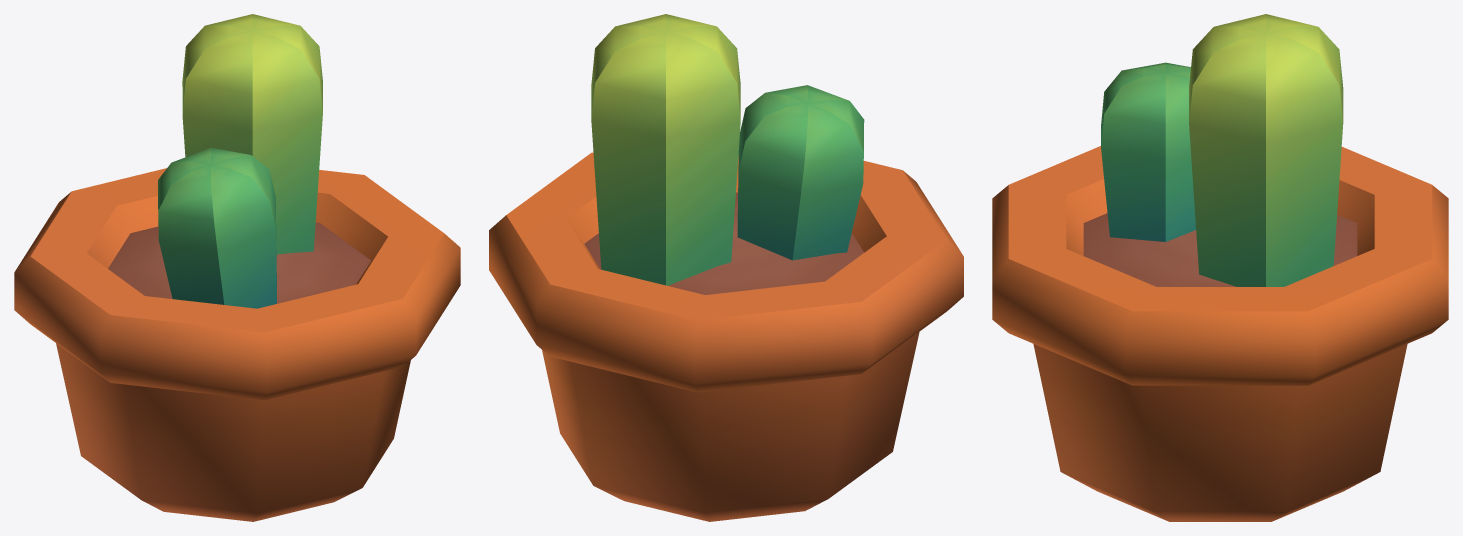
The model's file is kkf.cactus_small_b.glb.
3 renders of one model, left to right at view 1: azimuth 30°, elevation 25°; view 2: azimuth 150°, elevation 25°; view 3: azimuth 270°, elevation 25°, orthographic. The views are drawn at different scales.
Parts seen in each view (by area): view 1: cactus_small_B; view 2: cactus_small_B; view 3: cactus_small_B.
Boxes of the visible parts, <box> form: cactus_small_B: <box>14,14,460,521</box>; cactus_small_B: <box>489,14,963,521</box>; cactus_small_B: <box>992,14,1448,521</box>.
Size of the model in its own units: 0.1789 by 0.1973 by 0.1789.
1 material, 1 textured.
